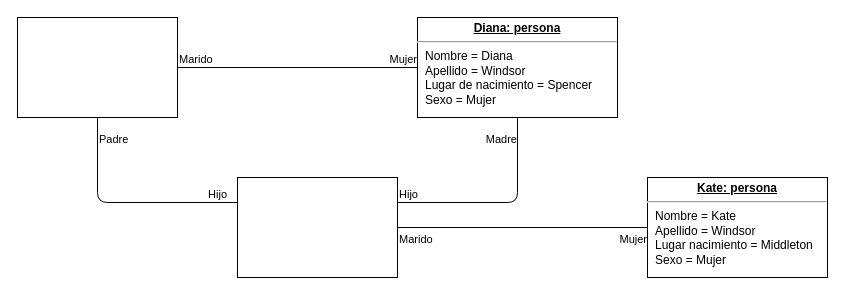
Image size: 845x295. Some labels were removed from this diagram. The centre of each missing label's shape, as x and y in pixels:
"Carlos: persona Nombre = Carlos Apellido = Windsor Sexo = Hombre" belongs at pixel 97 67.
"Guillermo: persona Nombre = Guillermo Apellido = Windsor Sexo = Hombre" belongs at pixel 317 227.
